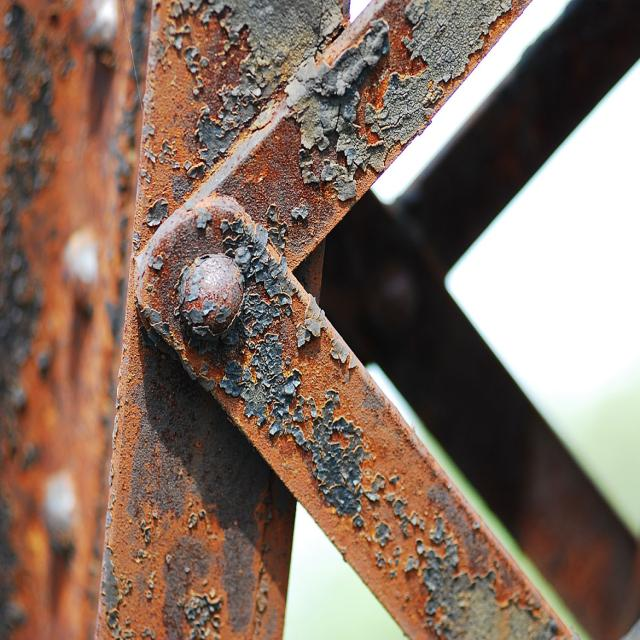damaged_tower: (2, 0, 294, 631), (300, 320, 469, 619), (298, 0, 477, 127)
